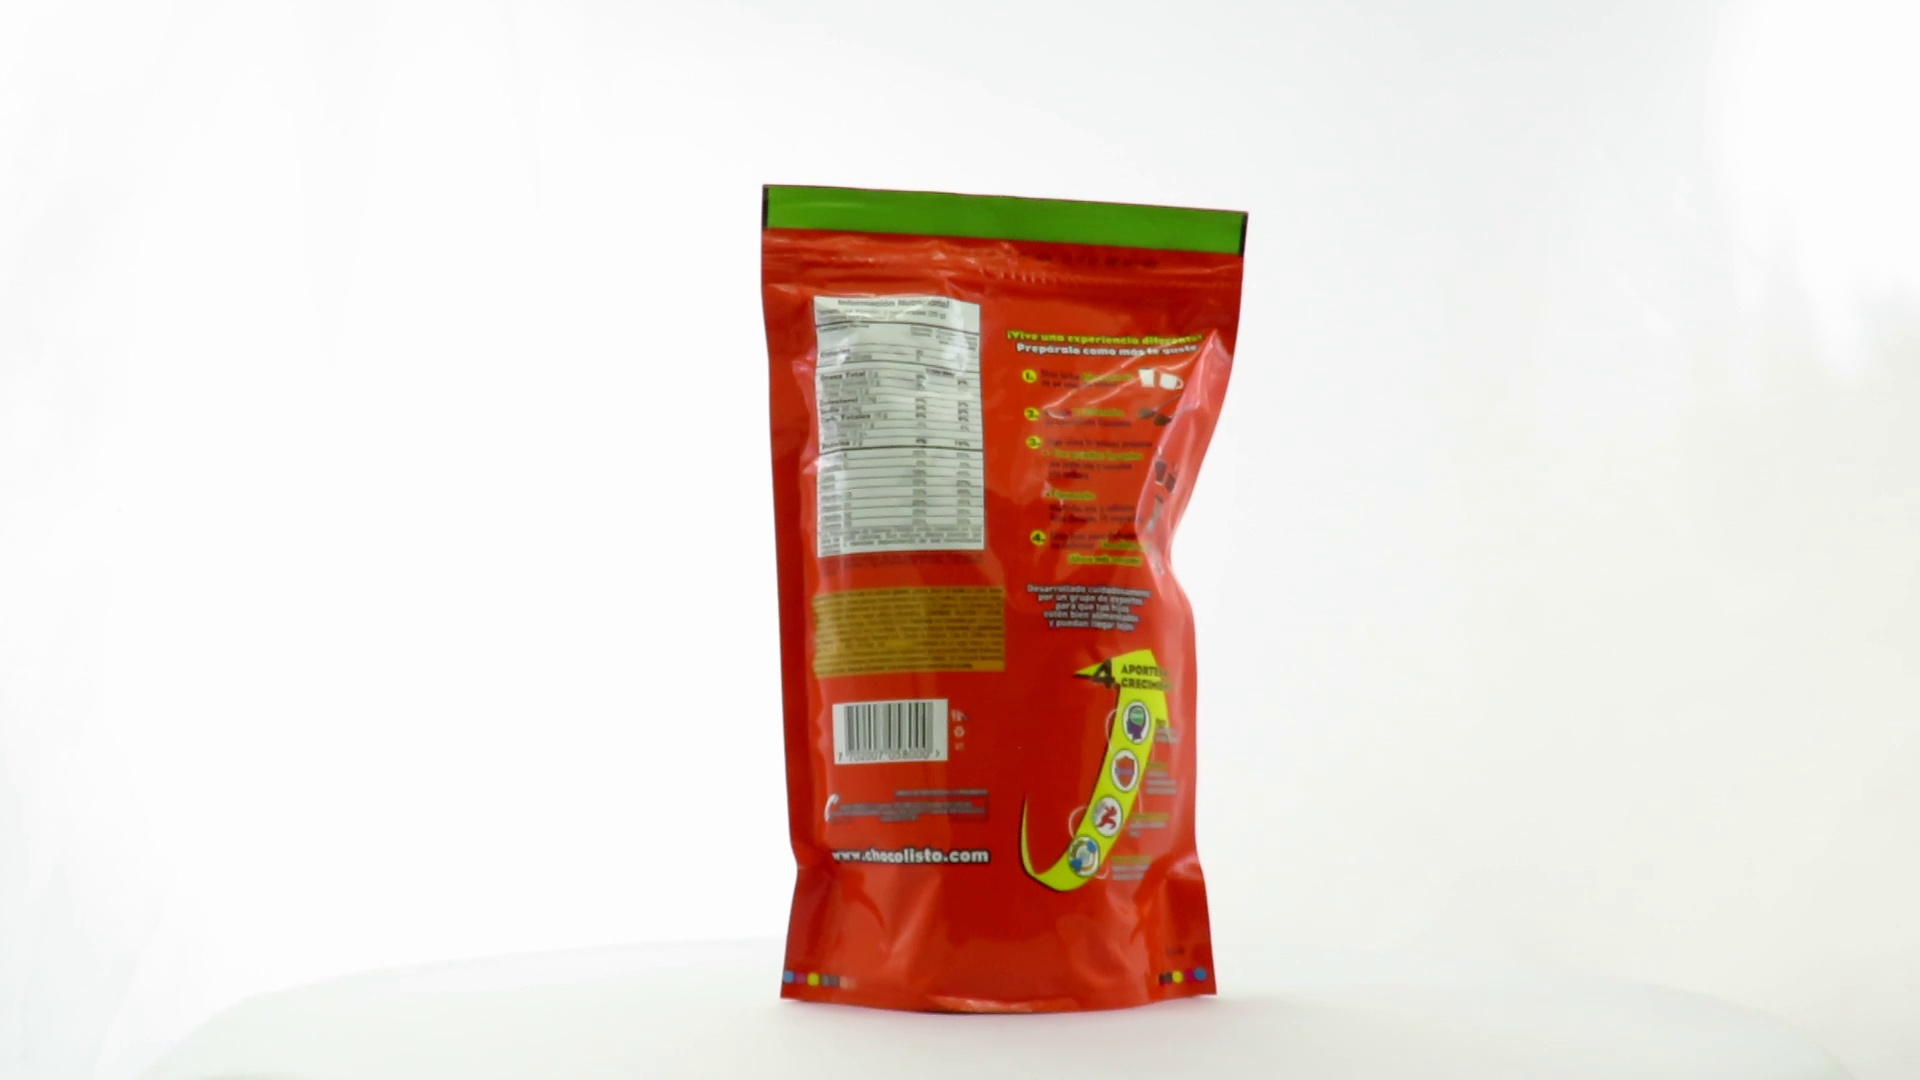COL0170102DYP50000: (756, 179, 1255, 1021)
